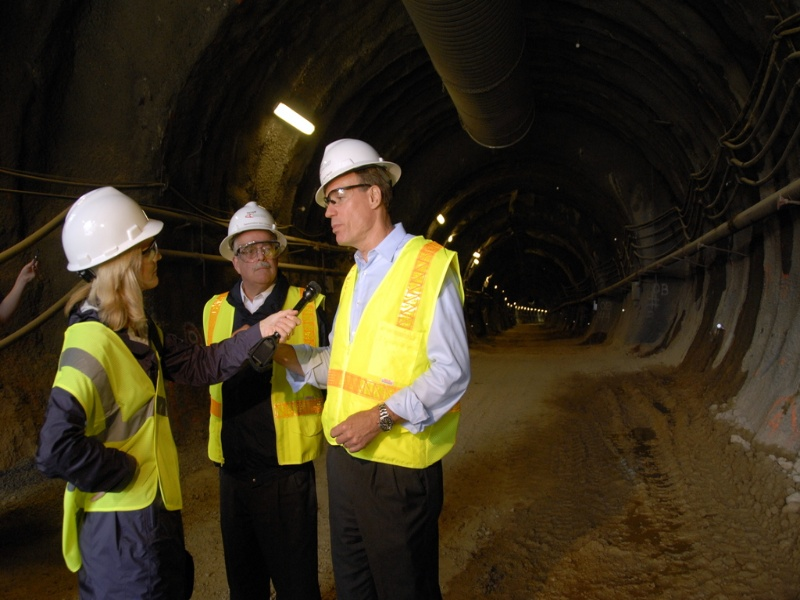Baret: (61, 184, 162, 263), (312, 138, 402, 184), (218, 202, 293, 245)
Gozluk: (234, 240, 289, 261), (321, 183, 374, 203)
